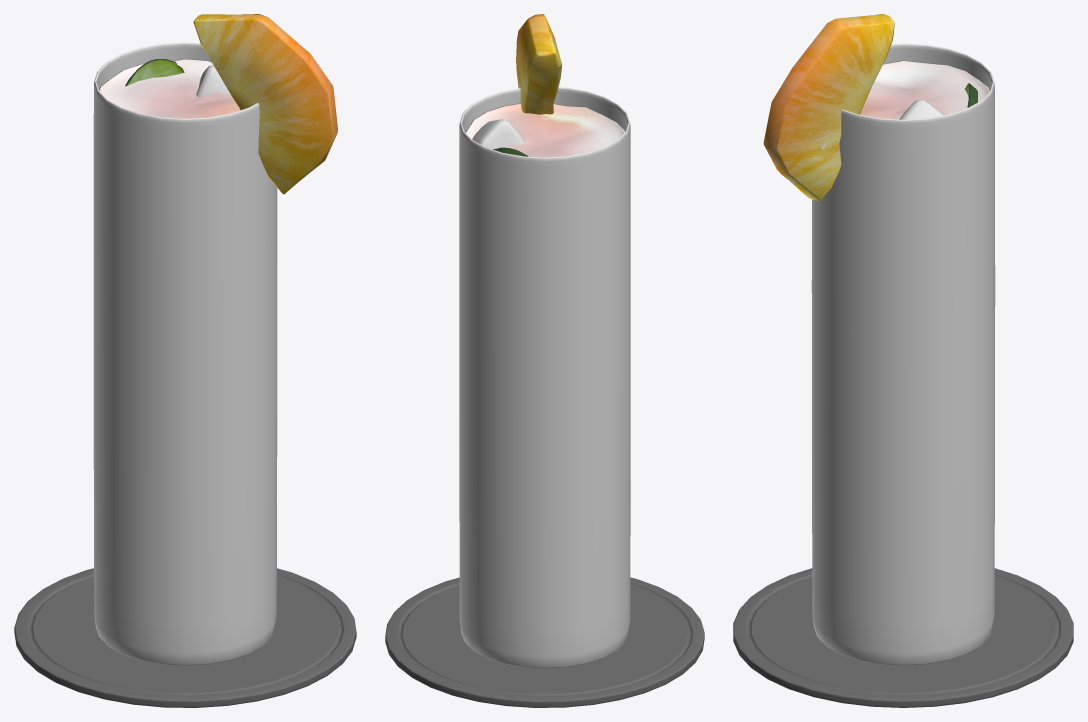
File: cucumber-draco.glb
3 renders of one model, left to right at view 1: azimuth 30°, elevation 25°; view 2: azimuth 150°, elevation 25°; view 3: azimuth 270°, elevation 25°, orthographic. The views are drawn at different scales.
Visible parts, largest first — view 1: glass, posavasos, pina, espuma.001, pepino, ice; view 2: glass, posavasos, espuma.001, pina, ice; view 3: glass, posavasos, pina, espuma.001, ice.
Part boxes in pixels (x1,y1,x2,y2): glass: [93, 42, 277, 665]; posavasos: [14, 568, 356, 707]; pina: [193, 14, 337, 194]; espuma.001: [99, 59, 239, 118]; pepino: [125, 59, 184, 86]; ice: [196, 65, 230, 96]; glass: [459, 87, 630, 668]; posavasos: [385, 577, 704, 707]; espuma.001: [465, 103, 625, 157]; pina: [516, 14, 562, 114]; ice: [472, 119, 525, 149]; glass: [811, 43, 995, 665]; posavasos: [733, 568, 1073, 707]; pina: [763, 14, 894, 200]; espuma.001: [860, 60, 989, 119]; ice: [899, 99, 944, 119].
Size of the model in its own units: 0.4987 by 1.02 by 0.4966.
4 materials, 2 textured.
